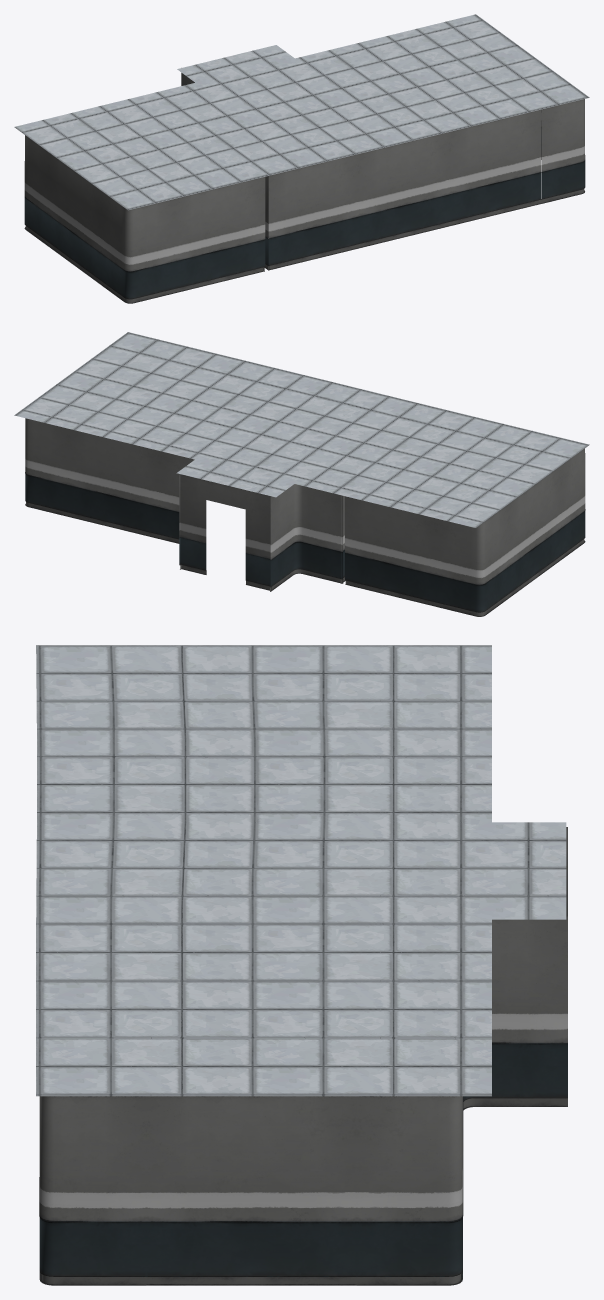
Rendered from StylizingAiRoomModulars 1.fbx.
The picture shows the model from 3 angles, top to bottom: view 1: azimuth 30°, elevation 25°; view 2: azimuth 150°, elevation 25°; view 3: azimuth 270°, elevation 25°; orthographic projection. The views are drawn at different scales.
Parts seen in each view (by area): view 1: Floor.003, Sm_AIRoomWall_01.001, Sm_AIRoomWall_01.008, Sm_AIRoomWall_01.003, Sm_AIRoomWall_01.009, Sm_AIRoomWall_02.002, Sm_AIRoomWall_01.007, Sm_AIRoomWall_02.004, Sm_AIRoomWall_02.001; view 2: Floor.003, Sm_AIRoomWall_01.006, Sm_AIRoomWall_01.011, Sm_AIRoomWall_02.001, Sm_AIRoomWall_03.002, Plane.003, Sm_AIRoomWall_01.007, Sm_AIRoomWall_02.003, Sm_AIRoomWall_02.002, Sm_AIRoomWall_03.001; view 3: Floor.003, Sm_AIRoomWall_01.002, Sm_AIRoomWall_02.004, Sm_AIRoomWall_02.003, Sm_AIRoomWall_03.001.
Boxes of the visible parts, box(x1,y1,x2,y2) form: Floor.003: box(14, 14, 589, 210); Sm_AIRoomWall_01.001: box(268, 154, 359, 270); Sm_AIRoomWall_01.008: box(173, 177, 265, 293); Sm_AIRoomWall_01.003: box(359, 132, 450, 248); Sm_AIRoomWall_01.009: box(450, 109, 541, 225); Sm_AIRoomWall_02.002: box(101, 191, 173, 303); Sm_AIRoomWall_01.007: box(48, 153, 102, 285); Sm_AIRoomWall_02.004: box(541, 99, 585, 203); Sm_AIRoomWall_02.001: box(24, 135, 49, 246); Floor.003: box(14, 332, 589, 527); Sm_AIRoomWall_01.006: box(345, 496, 436, 606); Sm_AIRoomWall_01.011: box(68, 429, 159, 538); Sm_AIRoomWall_02.001: box(436, 504, 508, 616); Sm_AIRoomWall_03.002: box(270, 484, 343, 591); Plane.003: box(180, 474, 271, 590); Sm_AIRoomWall_01.007: box(508, 466, 561, 598); Sm_AIRoomWall_02.003: box(25, 418, 68, 516); Sm_AIRoomWall_02.002: box(560, 448, 585, 559); Sm_AIRoomWall_03.001: box(159, 451, 194, 569); Floor.003: box(36, 645, 566, 1096); Sm_AIRoomWall_01.002: box(146, 1096, 356, 1285); Sm_AIRoomWall_02.004: box(39, 1096, 146, 1285); Sm_AIRoomWall_02.003: box(356, 1096, 463, 1285); Sm_AIRoomWall_03.001: box(463, 916, 567, 1110).
Bounding box in the file's own units: 1014 × 200 × 506.
